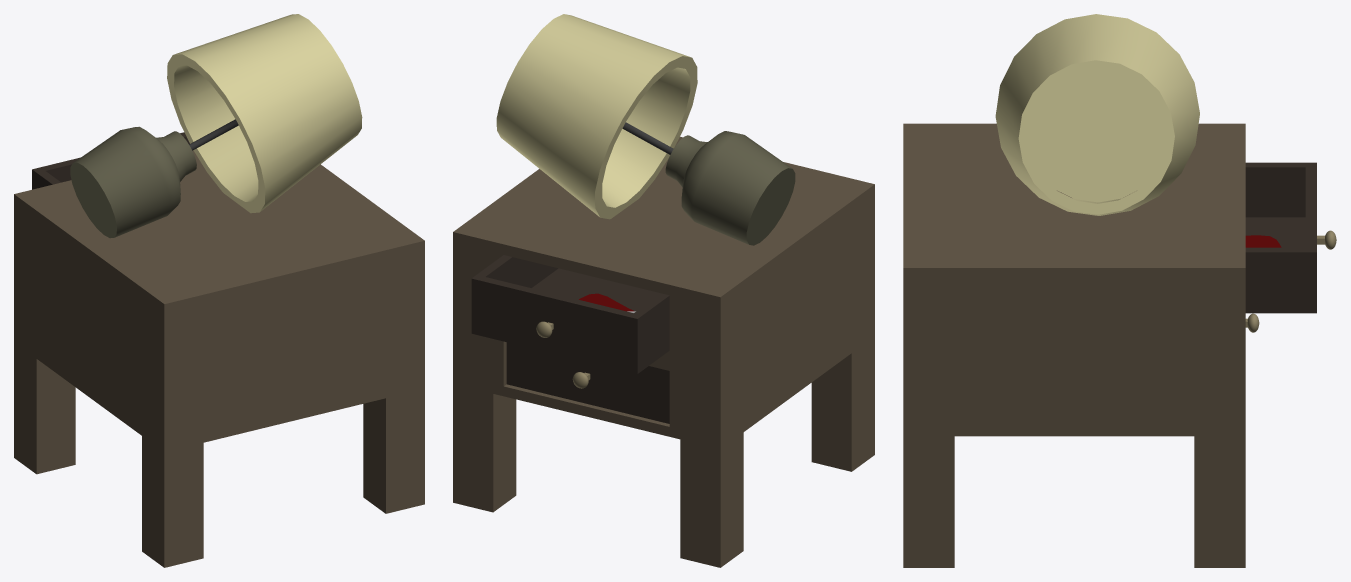
The model's file is UnorganizedNightStand.fbx.
The picture shows the model from 3 angles, left to right: view 1: azimuth 30°, elevation 25°; view 2: azimuth 150°, elevation 25°; view 3: azimuth 270°, elevation 25°; orthographic projection. The views are drawn at different scales.
Parts seen in each view (by area): view 1: UnorganizedNightStand; view 2: UnorganizedNightStand; view 3: UnorganizedNightStand.
Boxes of the visible parts, x1,y1,x2,y2 form: UnorganizedNightStand: [14, 14, 424, 567]; UnorganizedNightStand: [453, 14, 874, 567]; UnorganizedNightStand: [903, 14, 1336, 567].
Bounding box in the file's own units: 0.5196 × 0.8171 × 0.6545.
